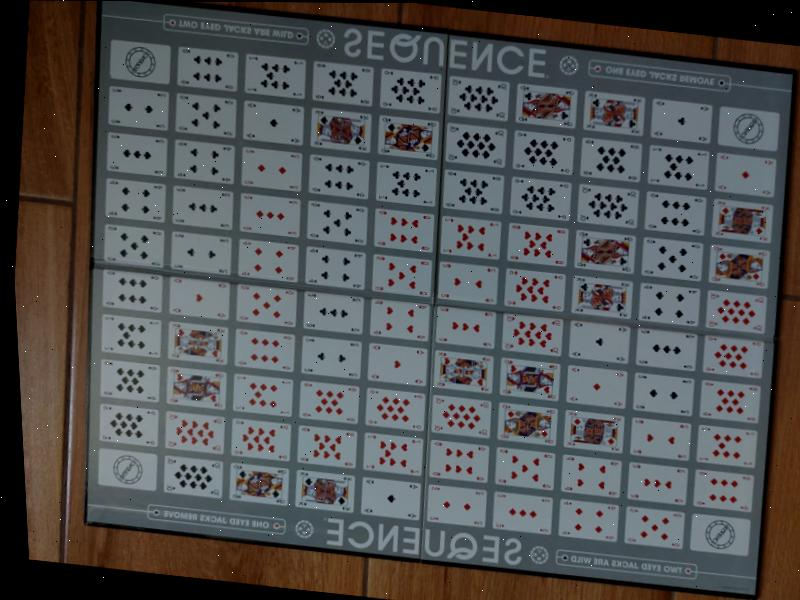Board: (77, 1, 800, 600)
